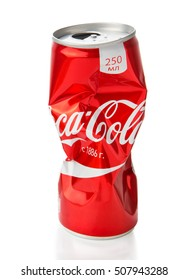can: (48, 21, 149, 242)
